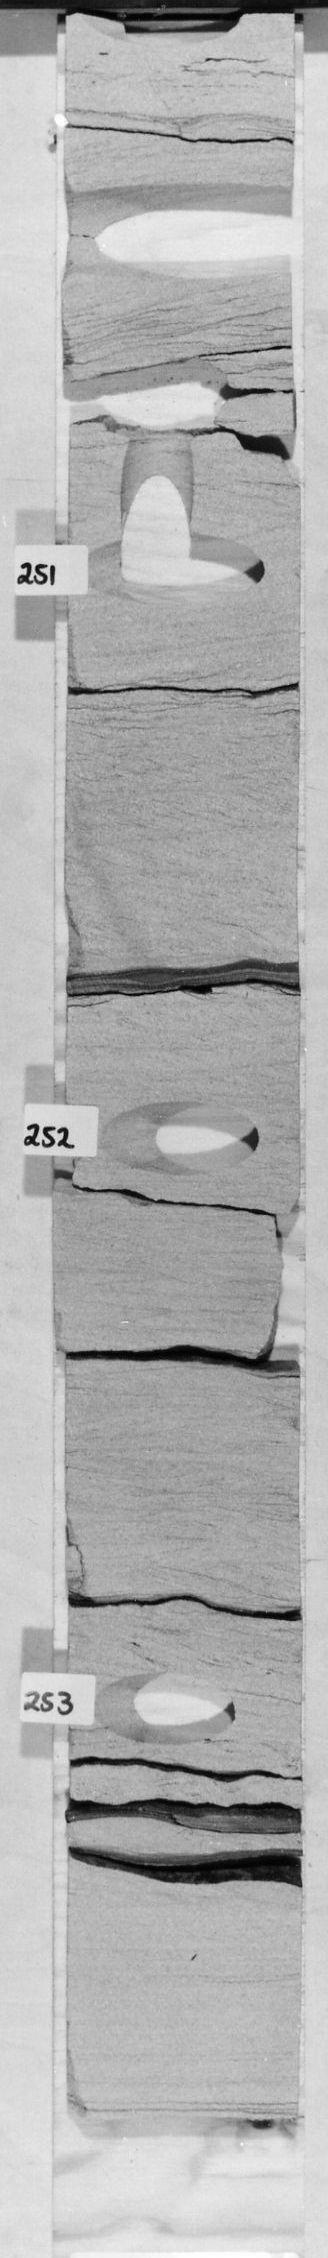hplug: (96, 1103, 282, 1194), (82, 534, 282, 616), (86, 1670, 256, 1760), (98, 14, 250, 48)
scal: (68, 177, 291, 305)
vplug: (109, 432, 210, 531)
